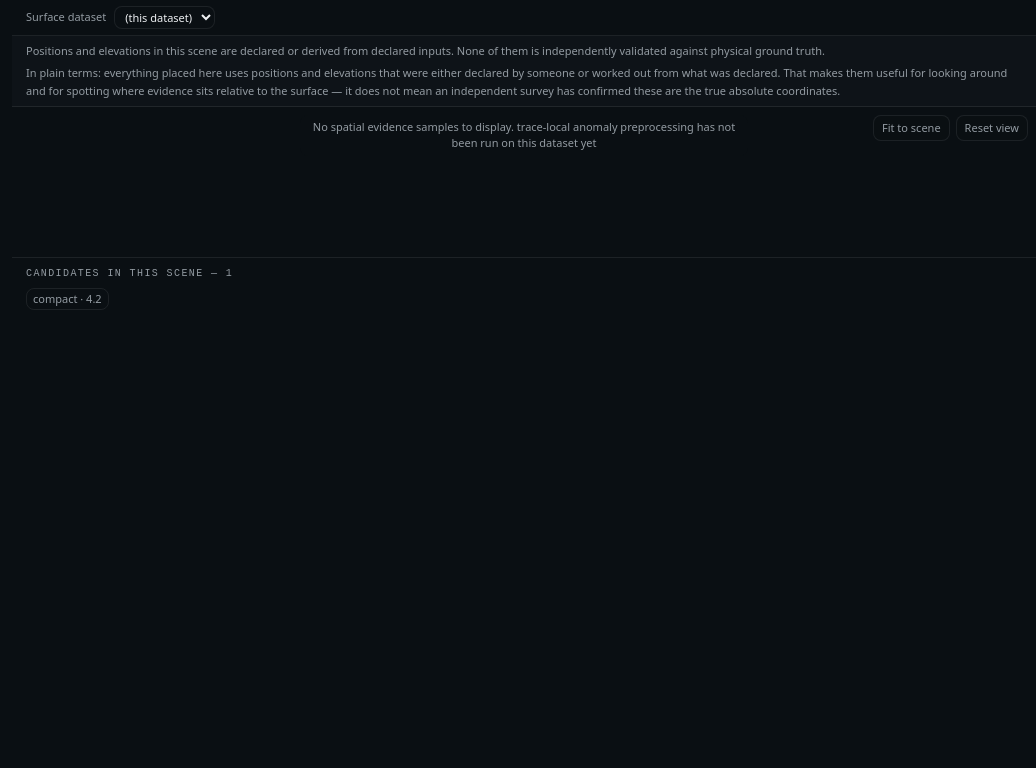
it: resolved scenes › shows "not yet reviewed" for a candidate with no human review recorded
expect the heading "Candidates in this scene — 1" is shown: met, box x1=26 y1=268 x2=233 y2=279
Click the button "compact · 4.2". click: (67, 299)
box: x1=26 y1=288 x2=109 y2=310
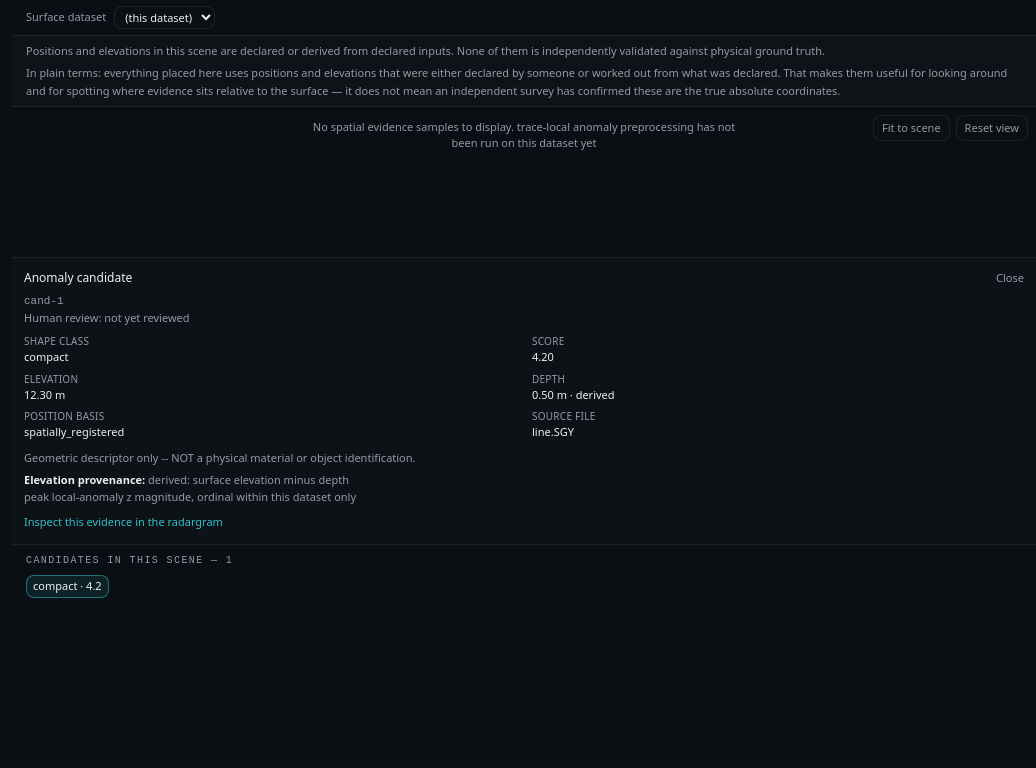
expect the text "Anomaly candidate" is shown: met, box x1=24 y1=270 x2=132 y2=286
expect the text "Human review: not yet reviewed" is shown: met, box x1=24 y1=310 x2=190 y2=325
